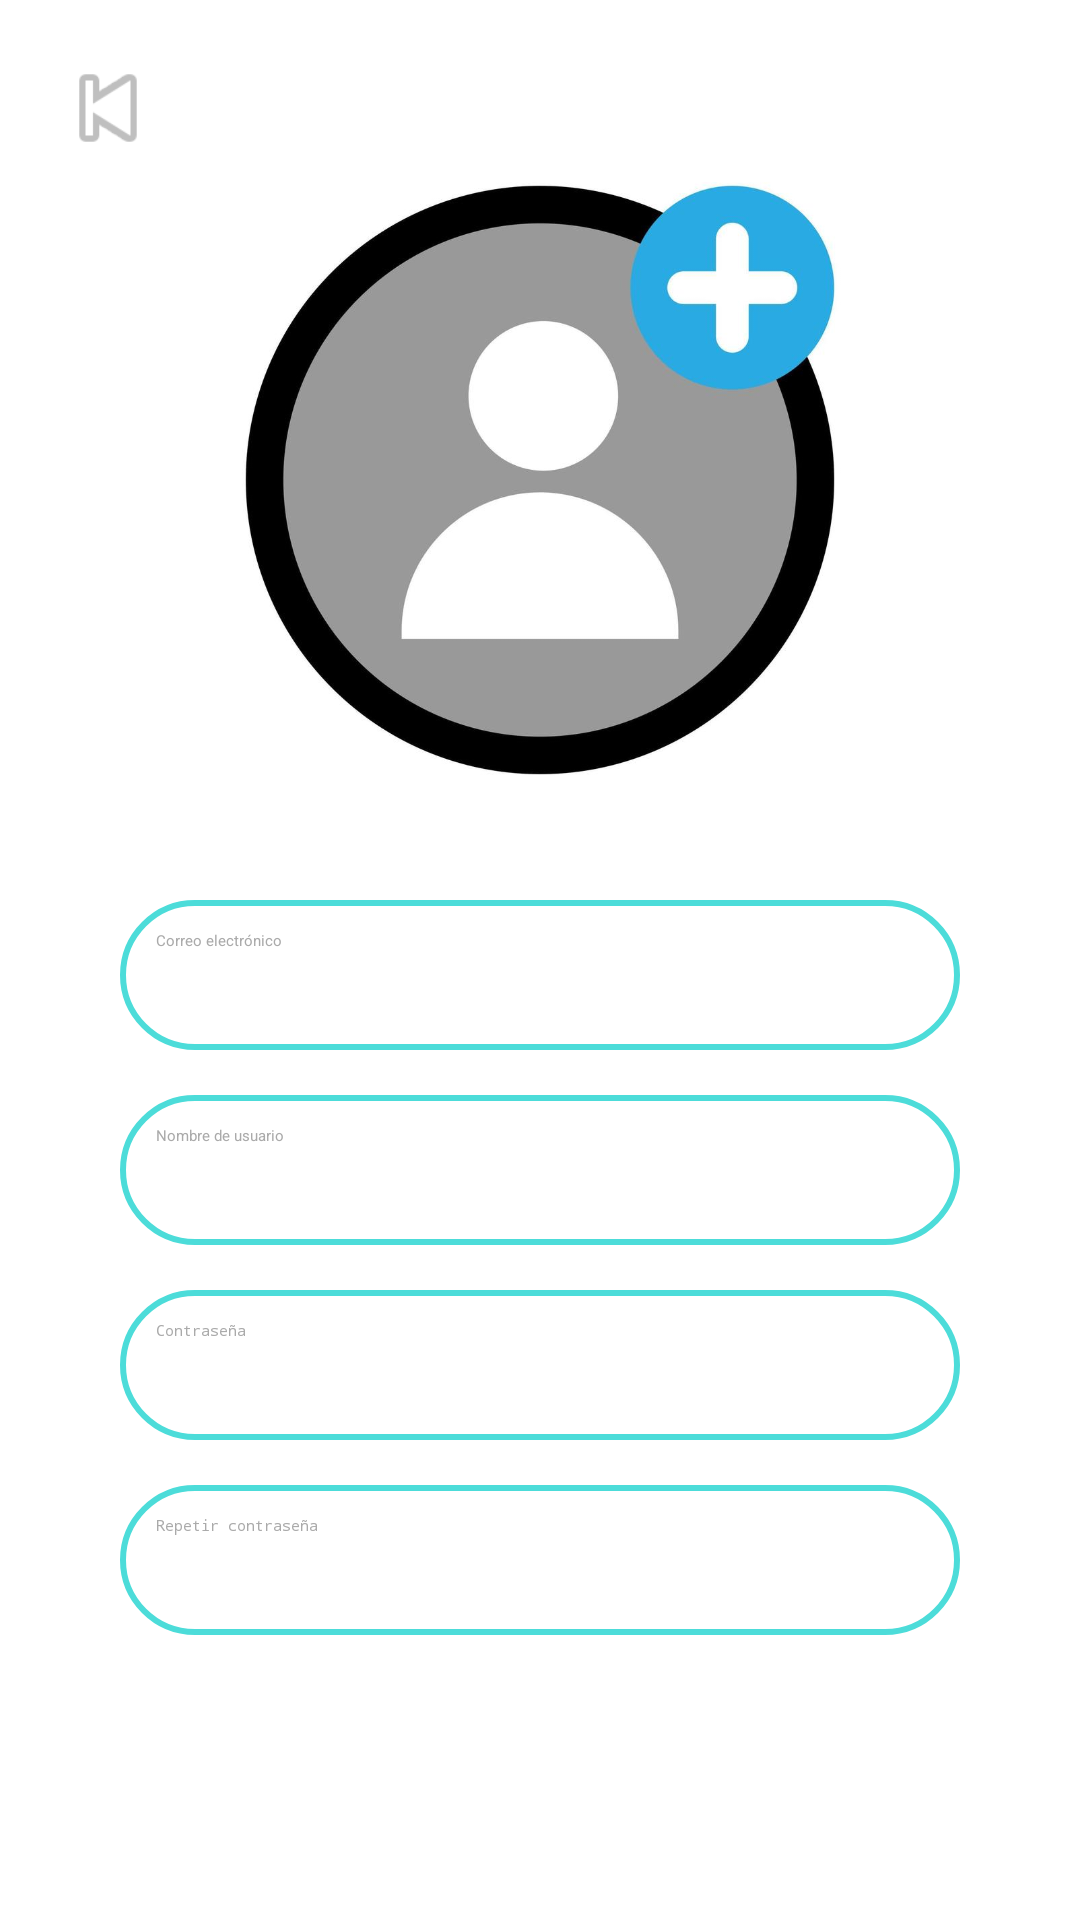

Where icons sit on this 1080 × 1920 app screen, as (x1, y1, x2, y2):
previous: (79, 74, 137, 142)
